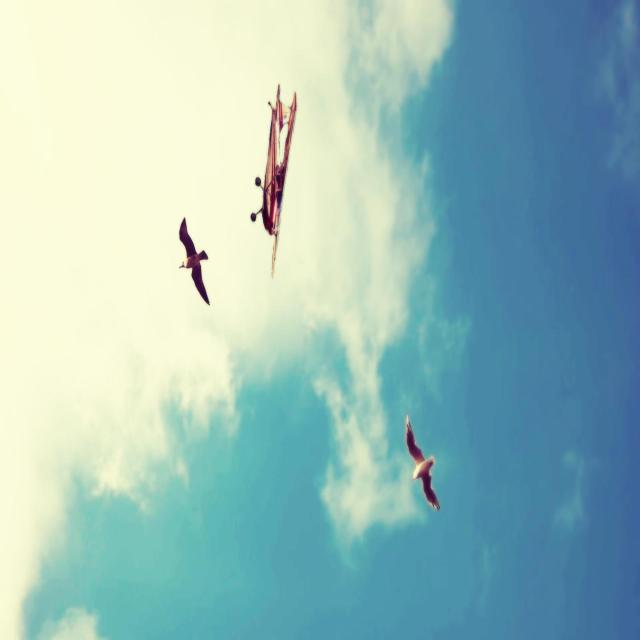airplane: (250, 83, 297, 278)
